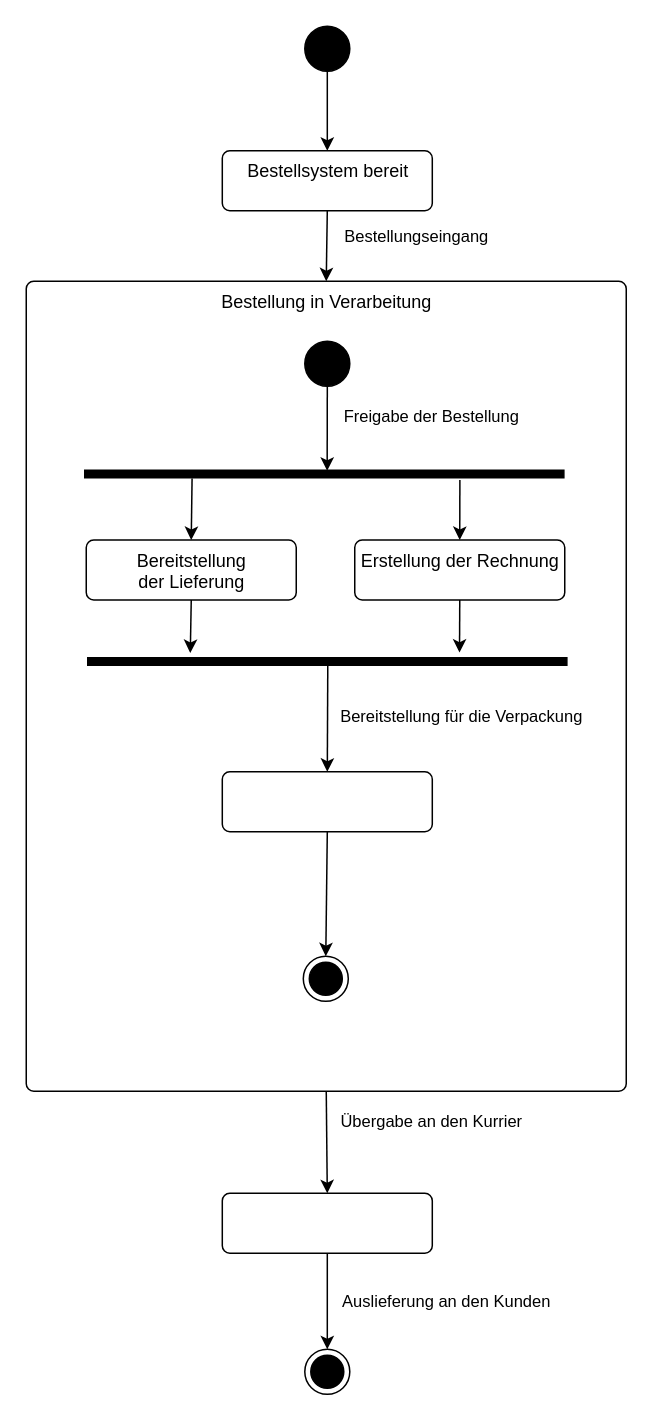
The diagram is 653 pixels wide and 1421 high, and some of its shapes have lost their labels. Each missing label, with the centre of its shape:
"Spedition" belongs at (326,801).
"Transport" belongs at (326,1222).
